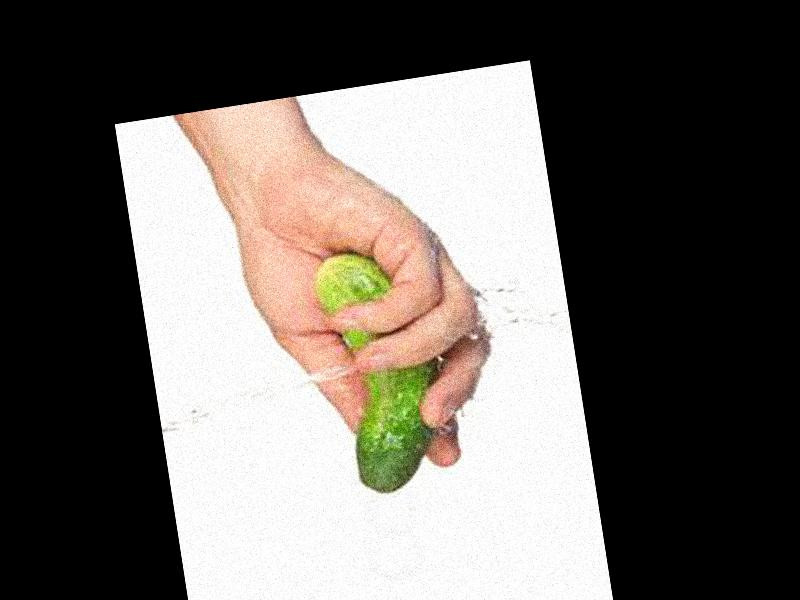Cucumber: (314, 244, 449, 499)
